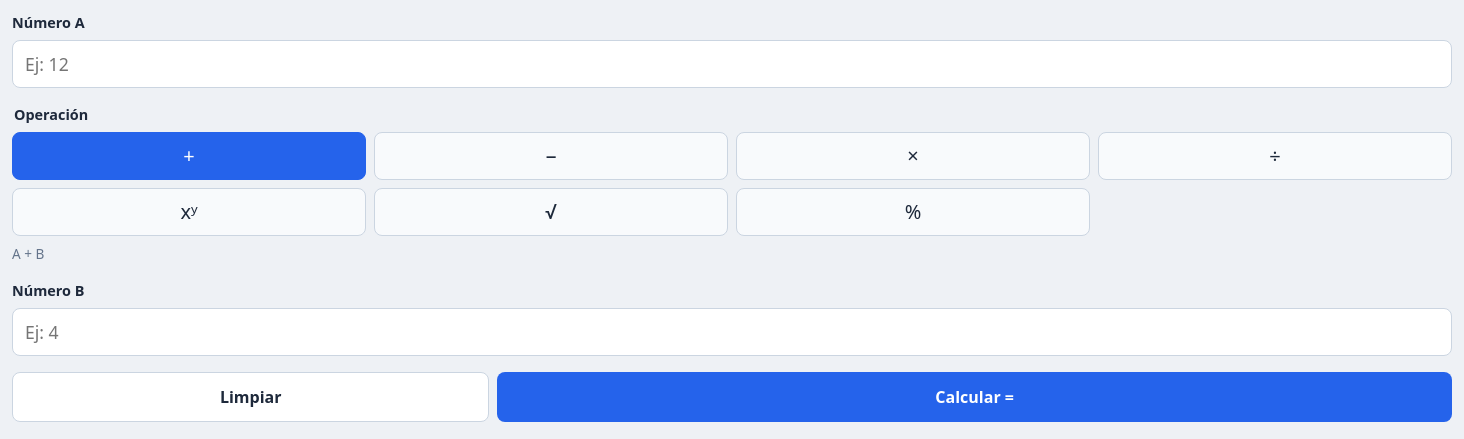
CalculatorForm › muestra una ayuda según la operación
What coordinates should you click on to do the following:
click the radio button named "Porcentaje"
I would click on:
 (913, 212)
Its box is x1=736 y1=188 x2=1090 y2=236.
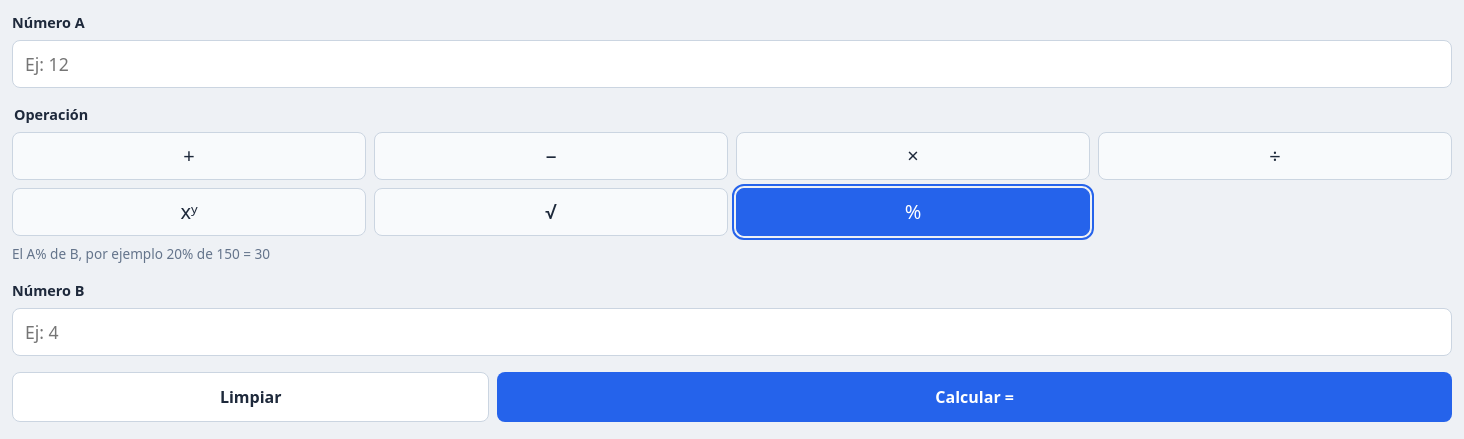
Check: the text "El A% de B, por ejemplo 20% de 150 = 30" is shown, box x1=12 y1=244 x2=270 y2=263
